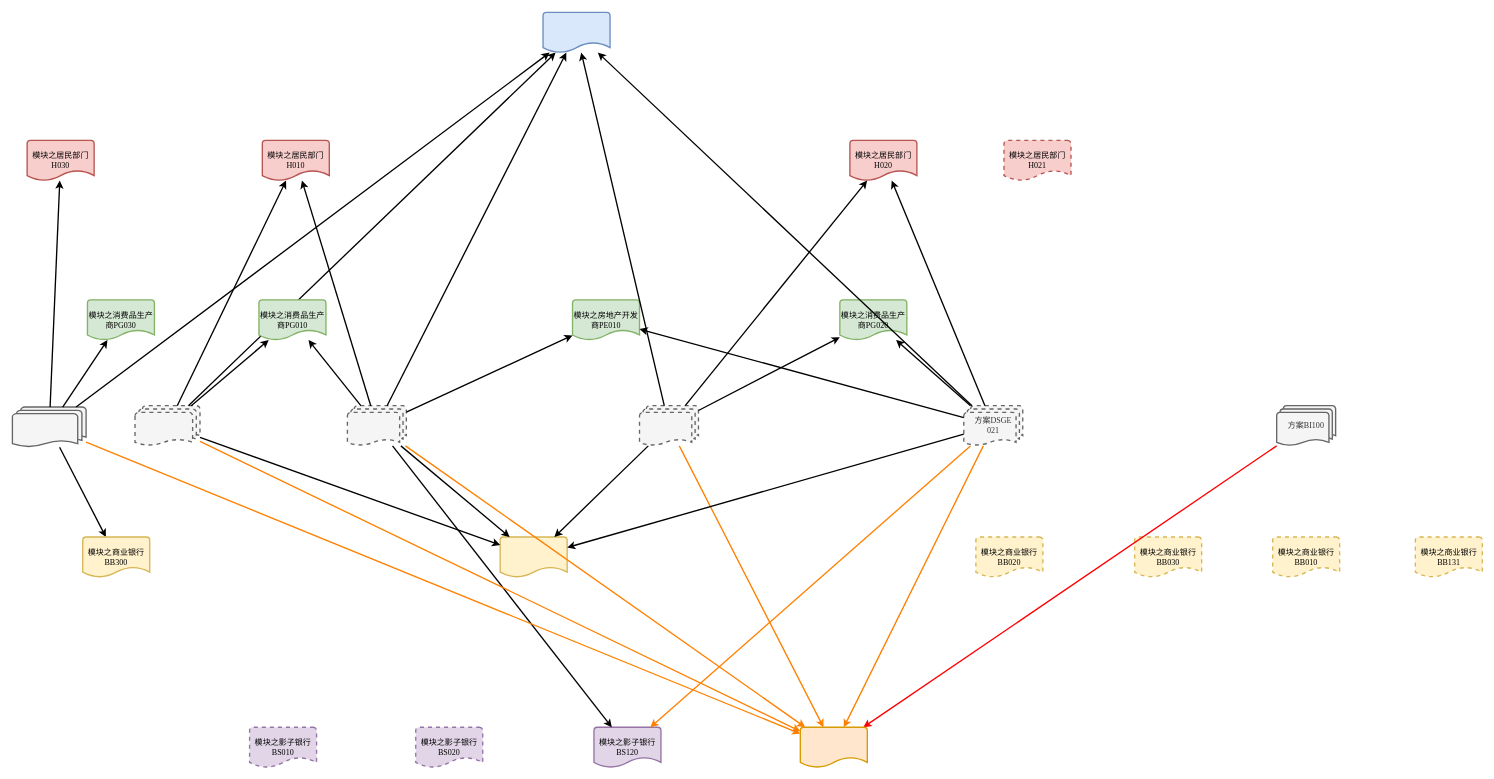
Some shapes in this 1494 by 779 pixel diagram are drawn without their labels. Each missing label, with the box of its shape:
方案DSGE 011: (346, 405, 407, 446)
方案DSGE 020: (639, 405, 699, 446)
方案DSGE010: (134, 405, 200, 446)
方案DSGE030: (11, 406, 86, 448)
模块之商业银行BB200: (499, 536, 567, 578)
模块之广义政府部门G010: (542, 11, 610, 53)
模块之银行间市场BI100: (799, 726, 868, 768)
